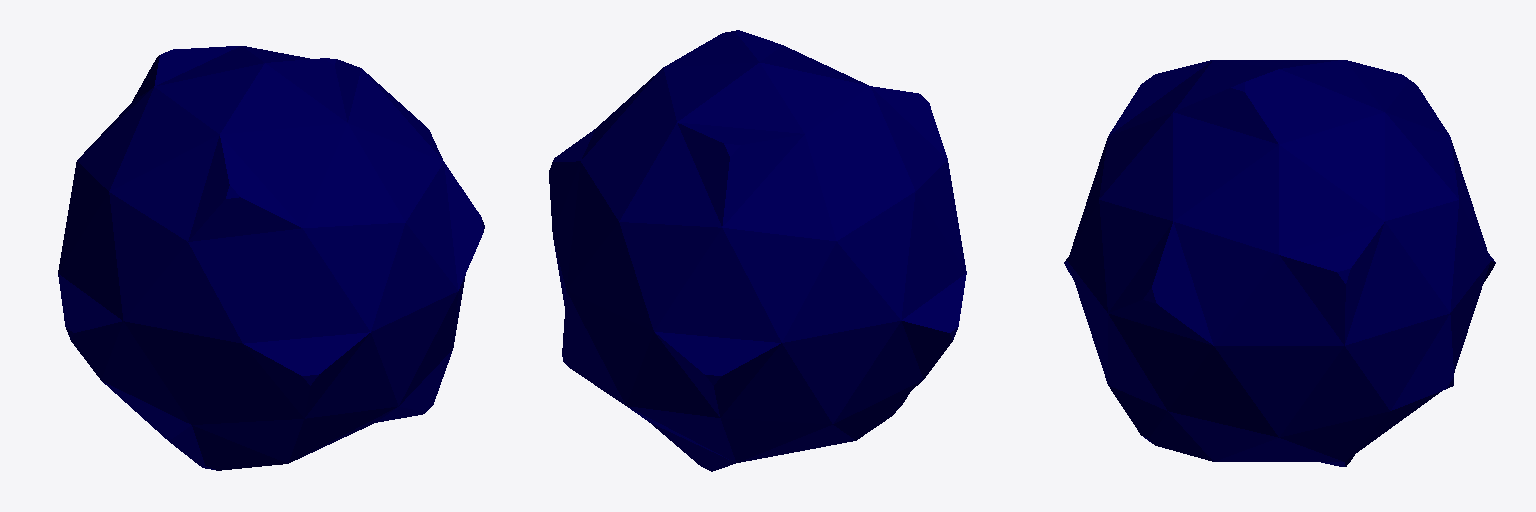
File: drone.obj
3 renders of one model, left to right at view 1: azimuth 30°, elevation 25°; view 2: azimuth 150°, elevation 25°; view 3: azimuth 270°, elevation 25°, orthographic.
Parts seen in each view (by area): view 1: Icosphere; view 2: Icosphere; view 3: Icosphere.
Part boxes in pixels (bbox=[...]): Icosphere: bbox=[58, 46, 484, 470]; Icosphere: bbox=[549, 30, 966, 471]; Icosphere: bbox=[1064, 60, 1495, 466].
Size of the model in its own units: 2.03 by 2.07 by 2.04.